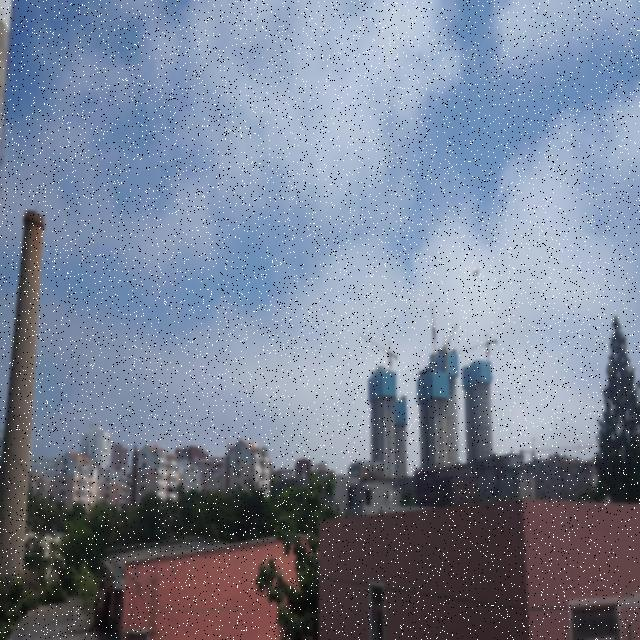UAV: (471, 268, 481, 278)
